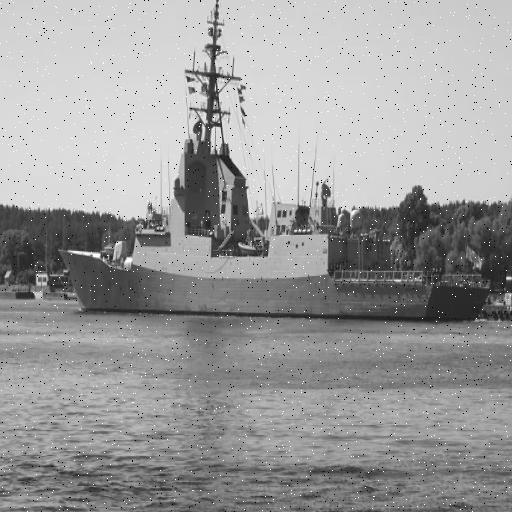Fragata: (50, 1, 488, 320)
